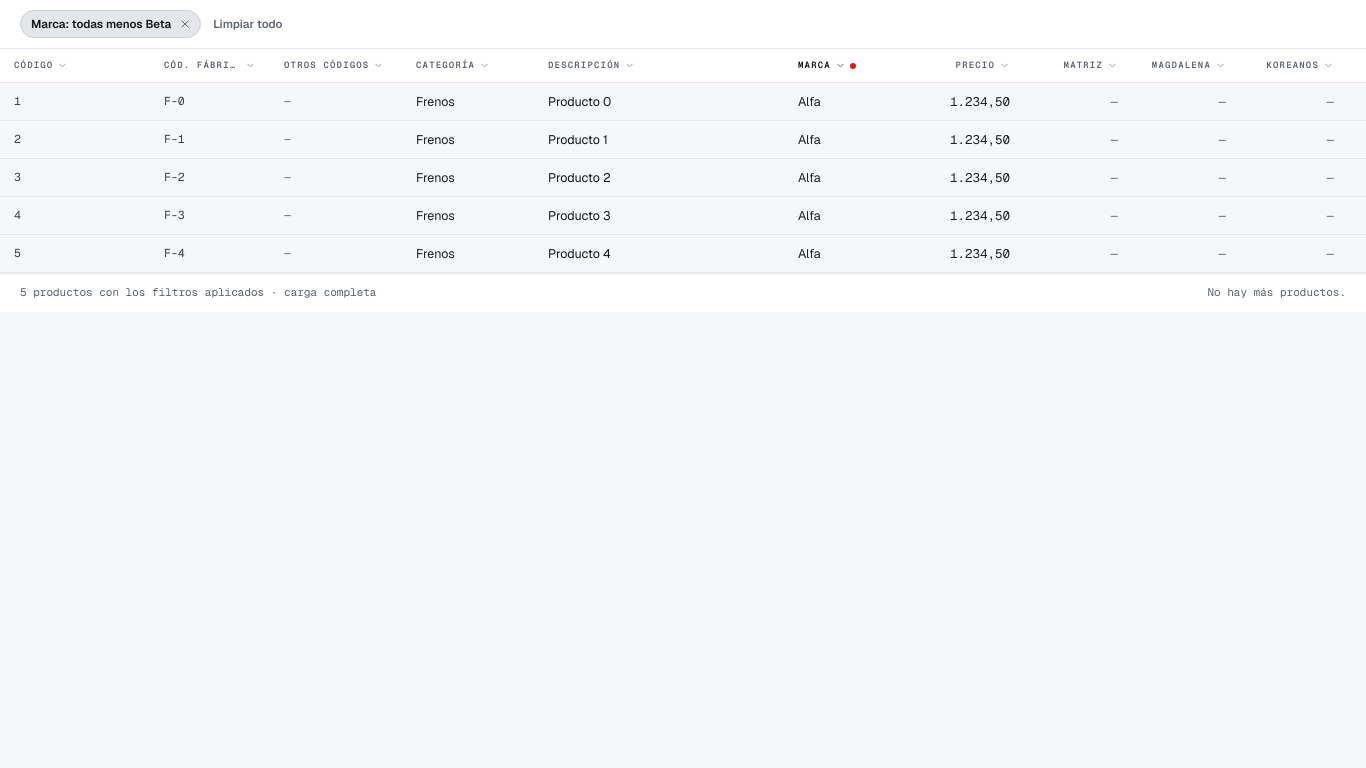
Test case: panel de lista de valores: se aplica al instante › 'Seleccionar todo' lo desmarca todo: no se puede escribir en la URL, avisa y no cambia nada
Expected: the row that starts with "F-0" is shown, [0,83,1365,121]
Click the button "Marca". click: (842, 66)
box: [784,49,900,83]
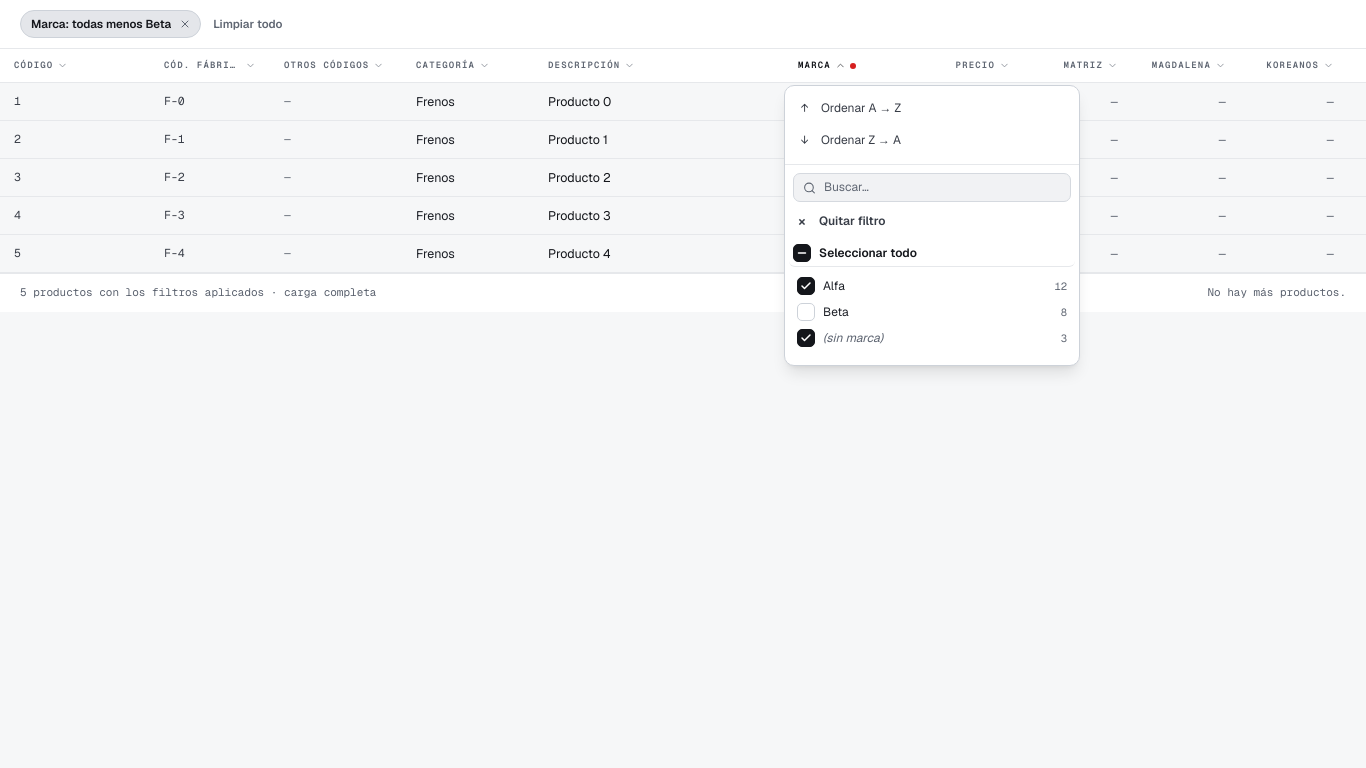
Now the checkbox labelled "Alfa 12" is shown, box [797,277,815,295]
Click the checkbox labelled "Seleccionar todo". click: (802, 253)
box: [793,244,811,262]
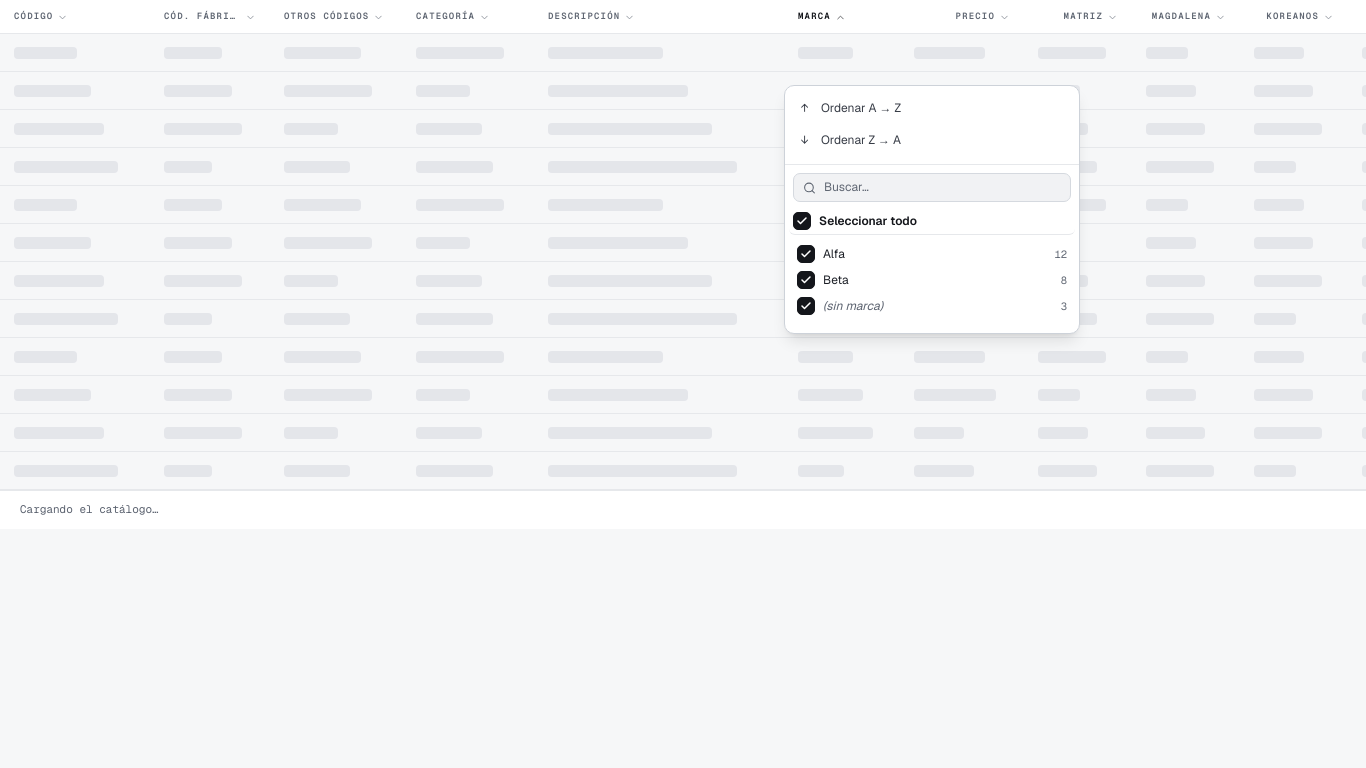
Click the checkbox labelled "Seleccionar todo". click: (802, 221)
box: [793,212,811,230]
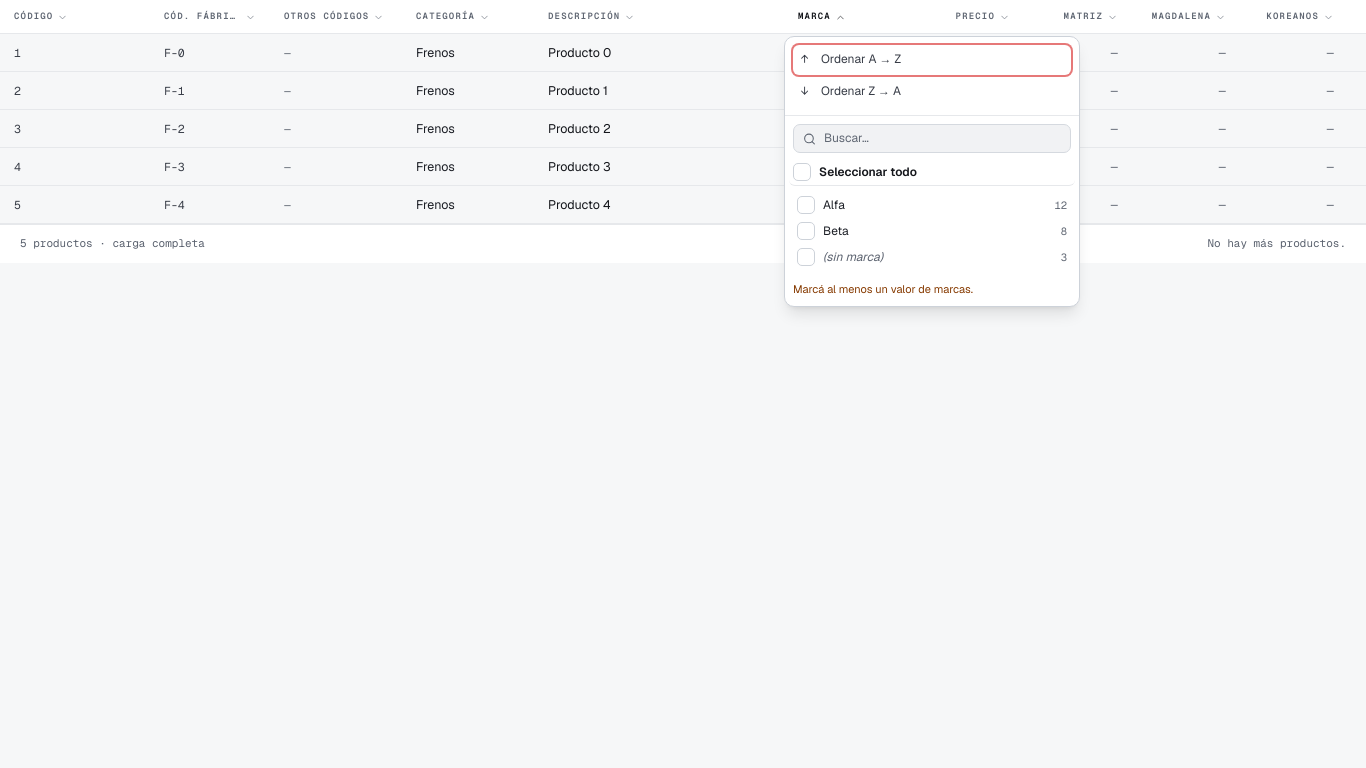
Now the text "Marcá al menos un valor de marcas." is shown, box [793,282,973,296]
